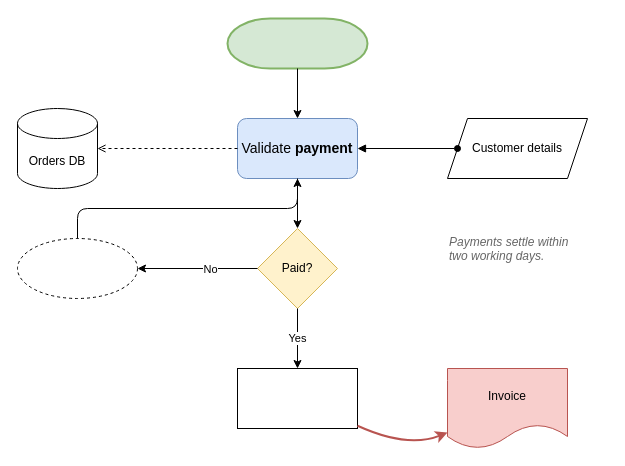
This 625x466 diagram has some shape labels left out. The shapes that lost their labels are listed below. From the top down, each one's box as (x1, y1, x2, y2) in pixels, then its label:
(226, 17, 368, 69): Order received
(16, 238, 138, 298): Ask again
(236, 368, 358, 428): Ship order
